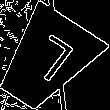L_SW: (16, 31, 75, 91)
